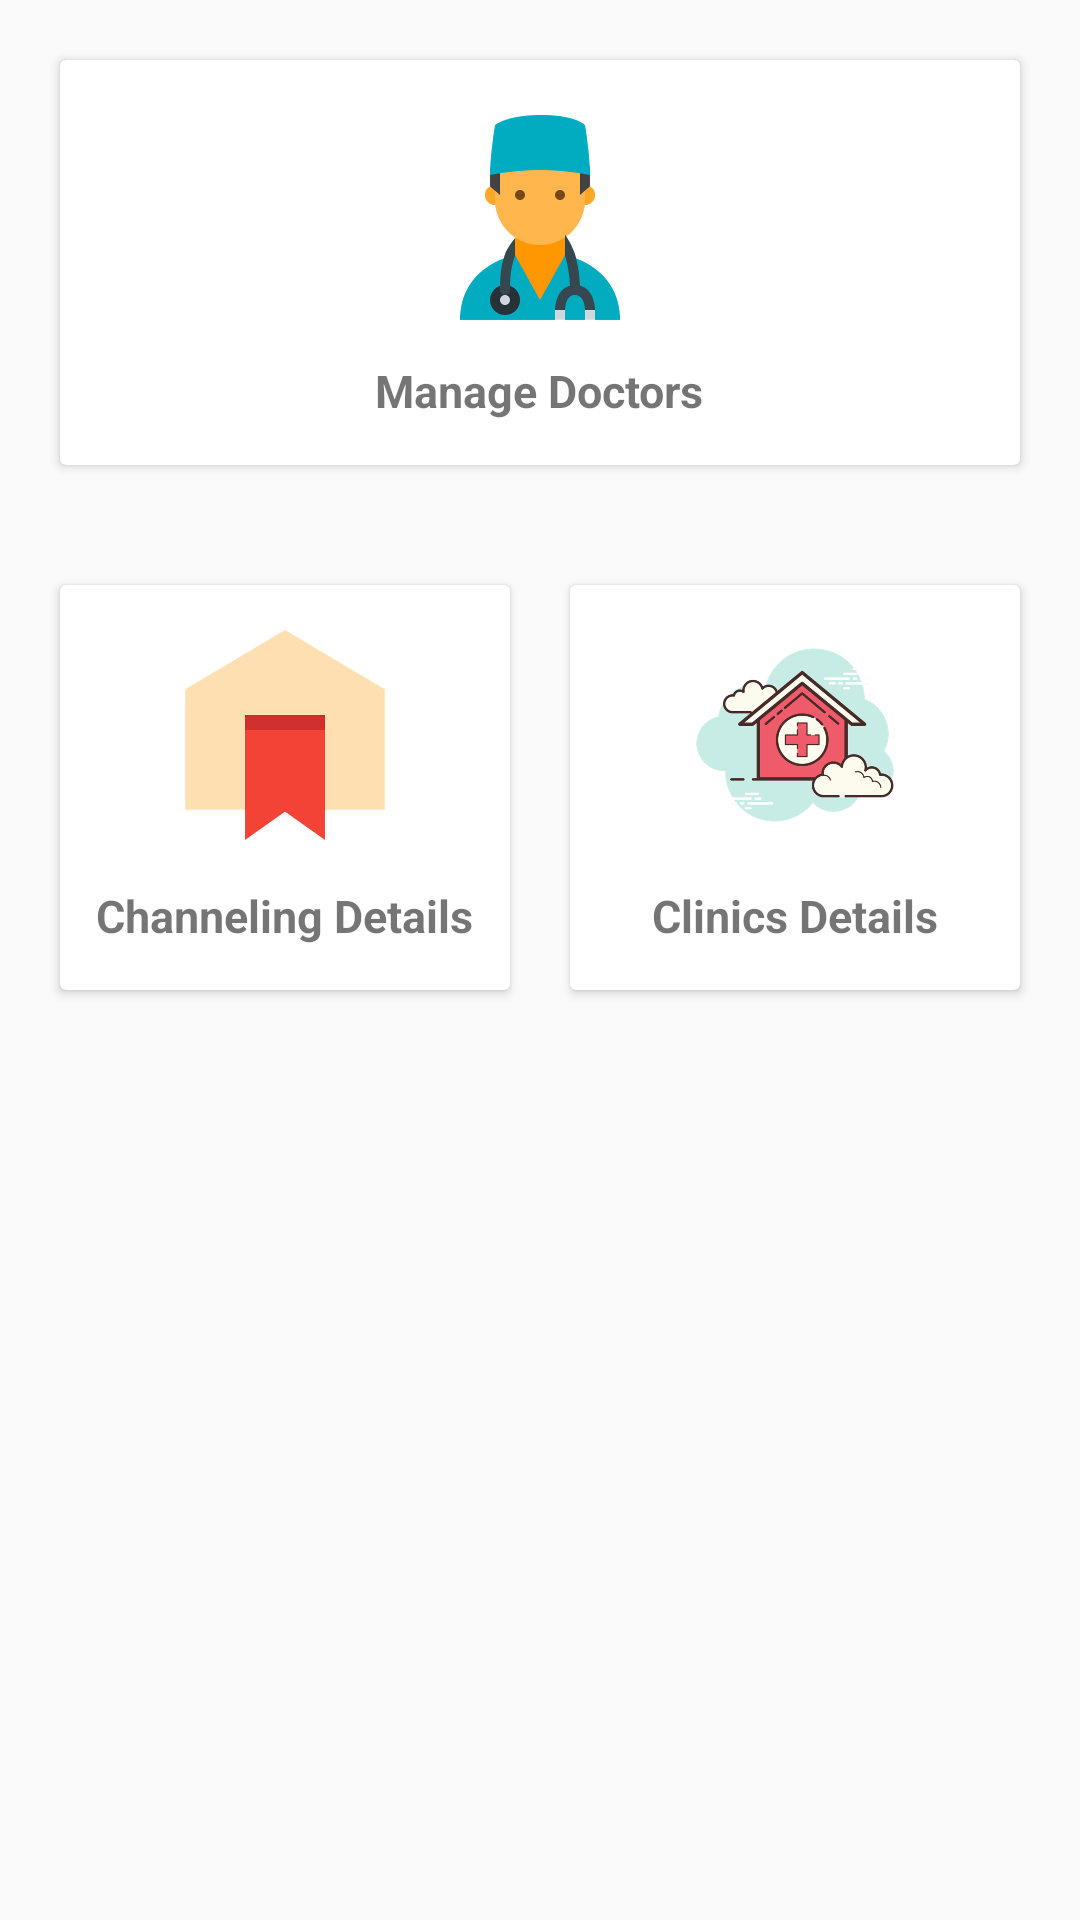

Screen size 1080 x 1920. Icon name, then its center in pixels as (x,y):
booking: (285,735)
doctor male: (540,217)
hospital: (795,735)
